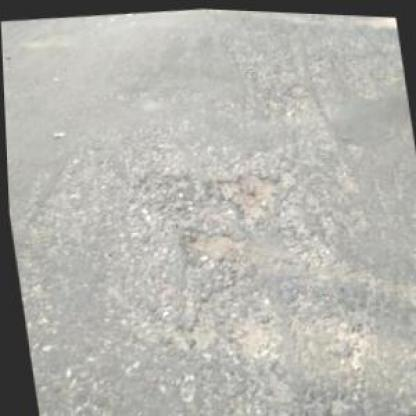pothole: (214, 166, 282, 224), (178, 222, 238, 259)
